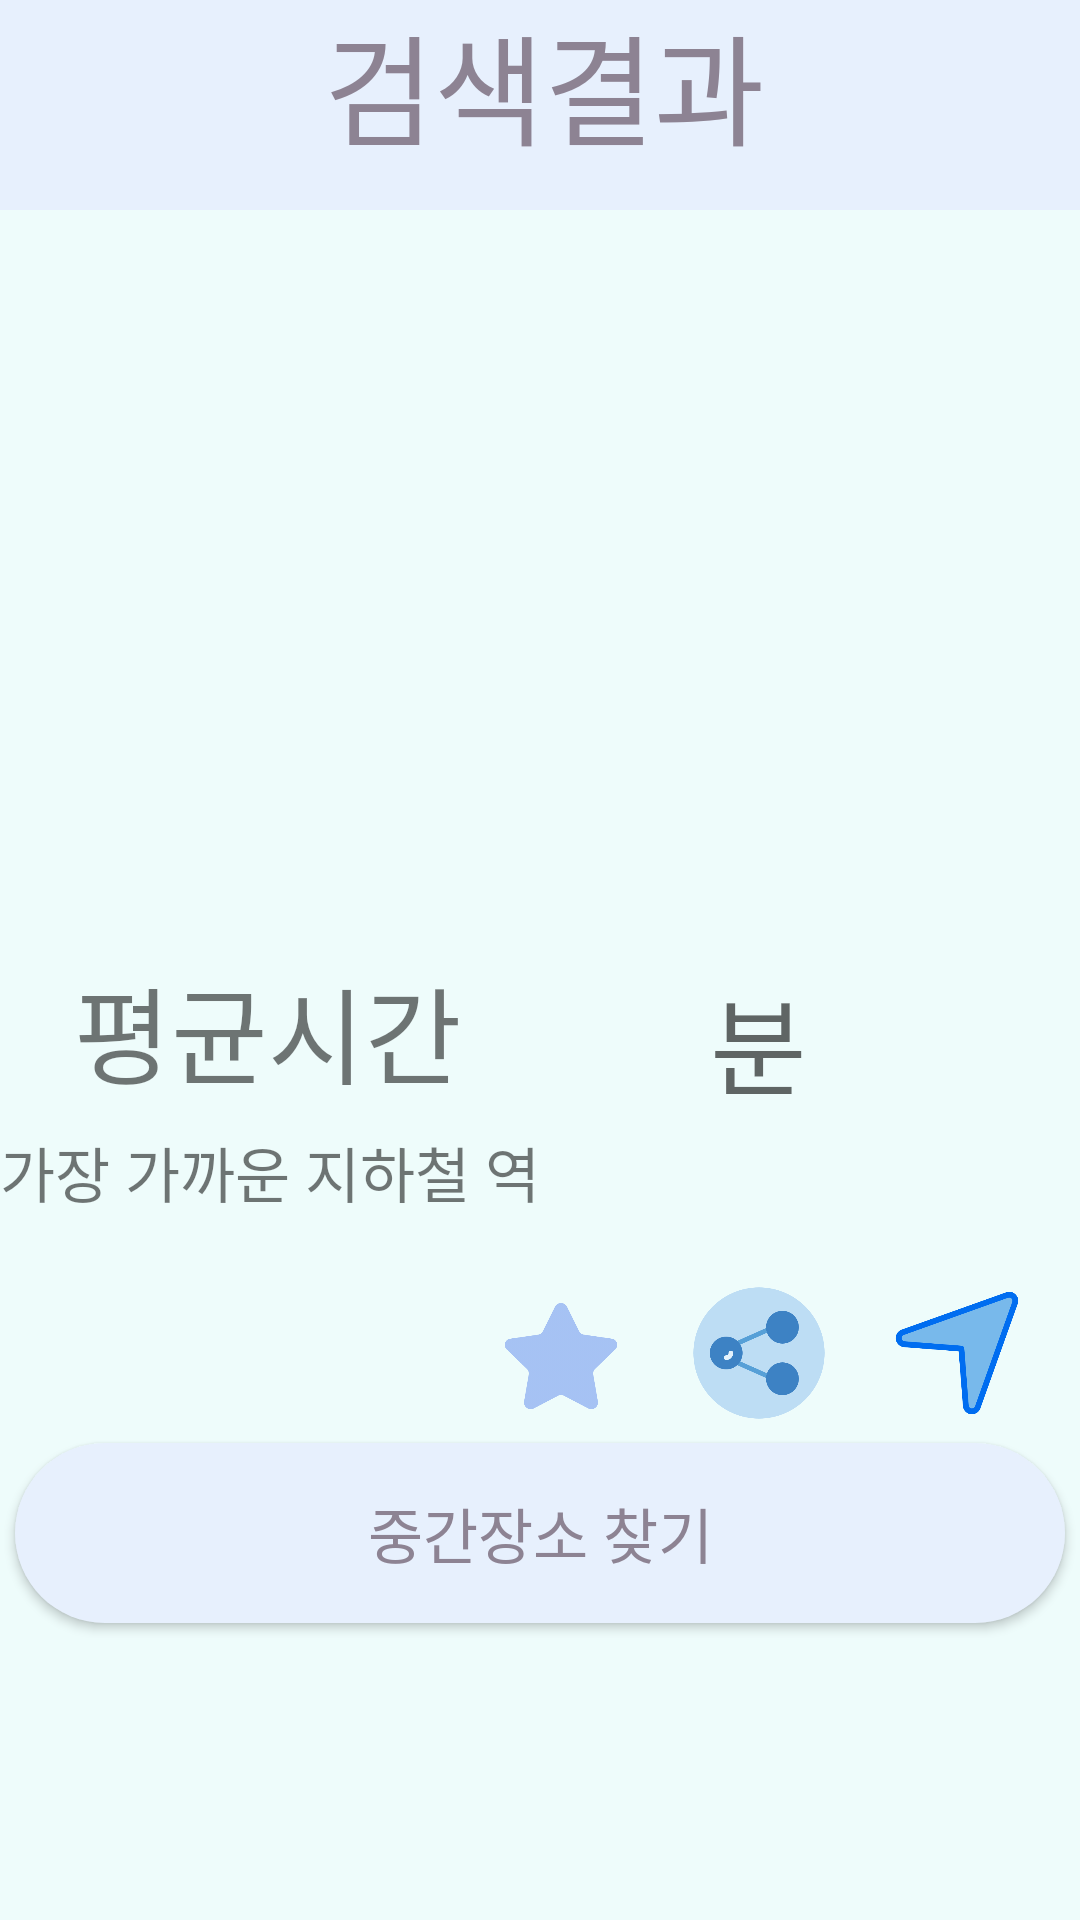

Where icons sit on this 1080px×1920px app screen, as (x1, y1, x2, y2):
star: (505, 1303, 617, 1409)
